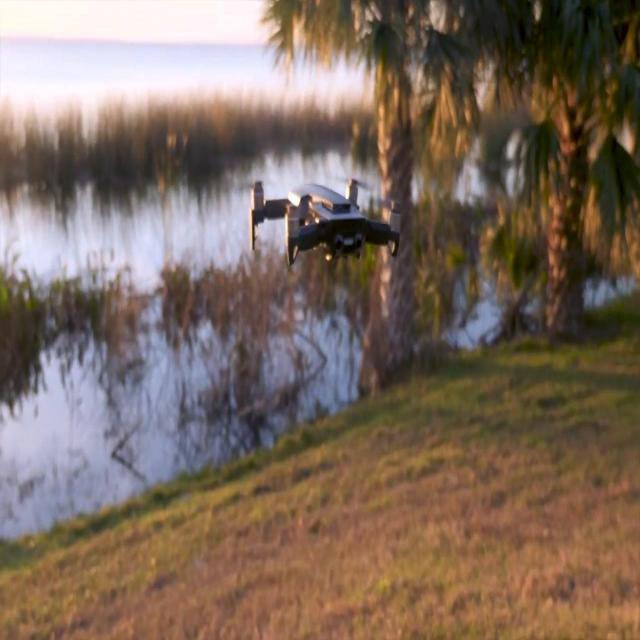UAV: (238, 178, 401, 266)
